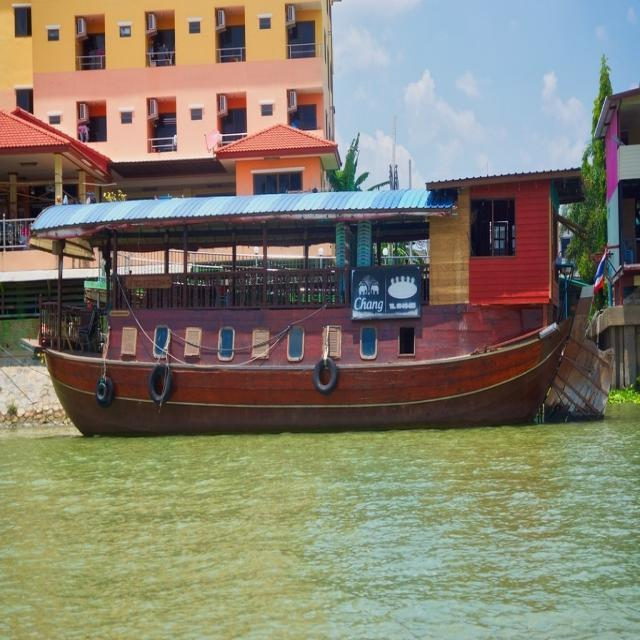boat: (40, 204, 555, 434)
